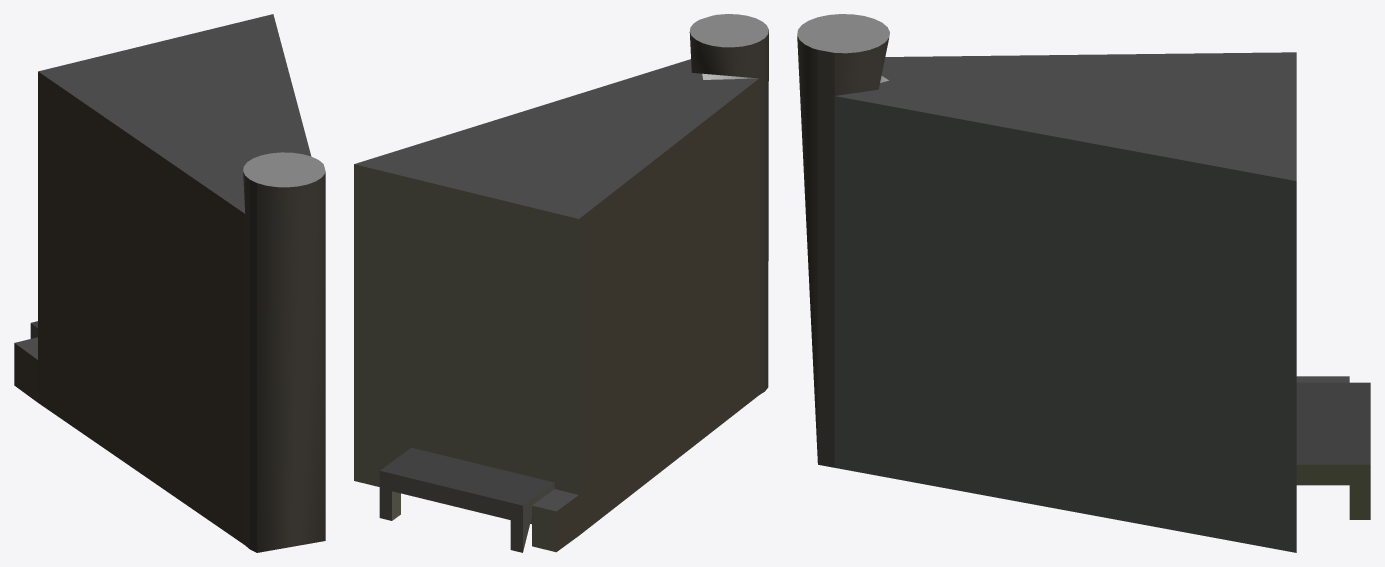
File: cornerstone-community-bank.glb
3 renders of one model, left to right at view 1: azimuth 30°, elevation 25°; view 2: azimuth 150°, elevation 25°; view 3: azimuth 270°, elevation 25°, orthographic. The views are drawn at different scales.
Visible parts, largest first — view 1: LOD0; view 2: LOD0; view 3: LOD0.
Boxes of the visible parts, bbox=[...] form: LOD0: bbox=[14, 14, 325, 552]; LOD0: bbox=[354, 14, 768, 552]; LOD0: bbox=[797, 14, 1370, 552].
Size of what is drawn, in the model's own units: 22.81 by 34.25 by 42.91.
2 materials, 2 textured.
